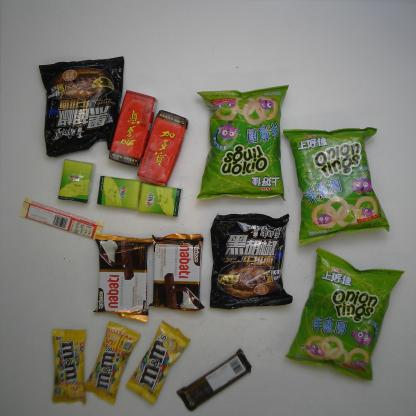Chocolate: (124, 319, 192, 407), (84, 319, 142, 406), (175, 347, 252, 412), (19, 197, 104, 240), (50, 327, 88, 405)
Dessert: (91, 234, 154, 323), (148, 233, 206, 312)
Drink: (134, 108, 190, 188), (107, 88, 159, 168)
Instant Noodles: (38, 56, 126, 157), (209, 212, 294, 310)
Puffed Food: (284, 248, 407, 382), (282, 126, 390, 248), (196, 83, 290, 202)
Tissue: (57, 158, 97, 204), (96, 174, 142, 210), (137, 182, 183, 218)
